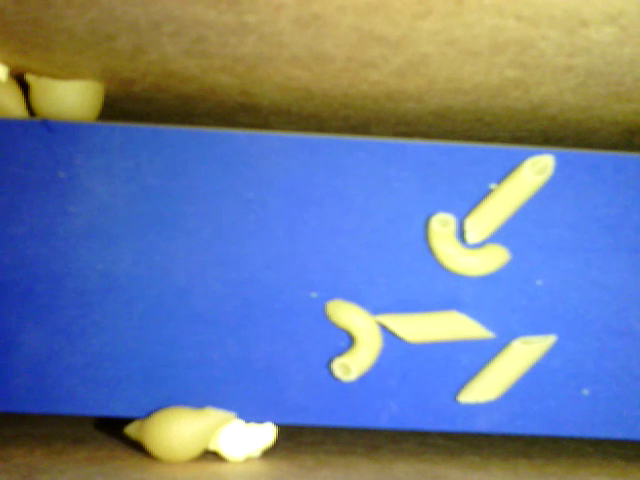elbow: (428, 212, 512, 279), (322, 300, 384, 384)
penne: (461, 153, 555, 246), (455, 332, 560, 405), (370, 311, 499, 346)
shell: (116, 405, 239, 466), (25, 72, 108, 127)
